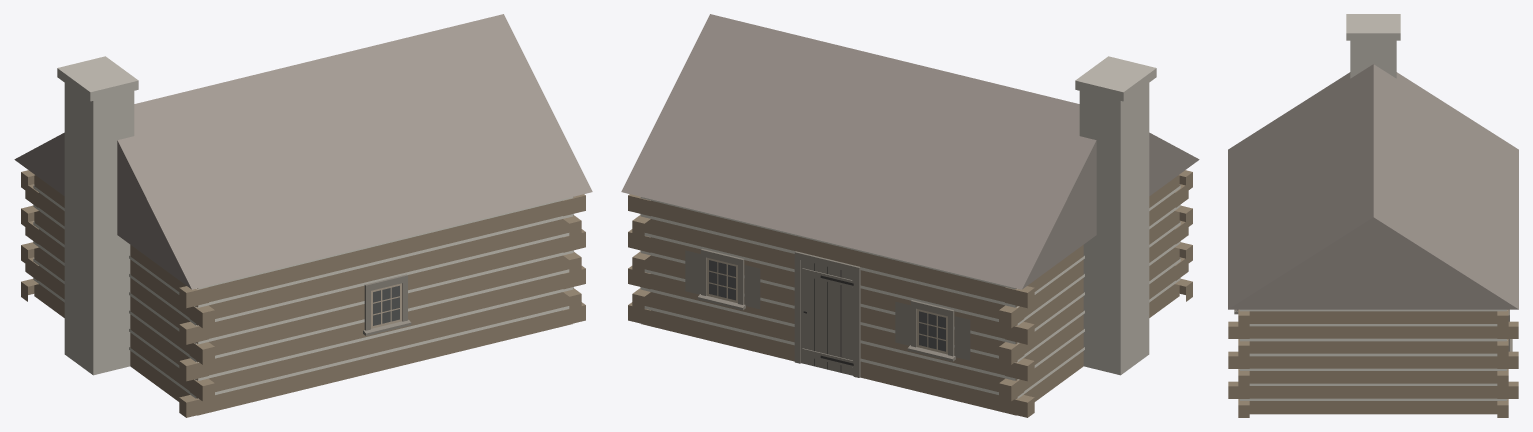
The model's file is north_side_school_1833__log_1833.glb.
The picture shows the model from 3 angles, left to right: view 1: azimuth 30°, elevation 25°; view 2: azimuth 150°, elevation 25°; view 3: azimuth 270°, elevation 25°; orthographic projection. The views are drawn at different scales.
Visible parts, largest first — view 1: north_side_school_1833__log_1833; view 2: north_side_school_1833__log_1833; view 3: north_side_school_1833__log_1833.
Part boxes in pixels (x1,y1,x2,y2): north_side_school_1833__log_1833: [14, 14, 592, 417]; north_side_school_1833__log_1833: [621, 14, 1199, 417]; north_side_school_1833__log_1833: [1228, 14, 1518, 417].
Size of the model in its own units: 8.37 by 5.32 by 6.
